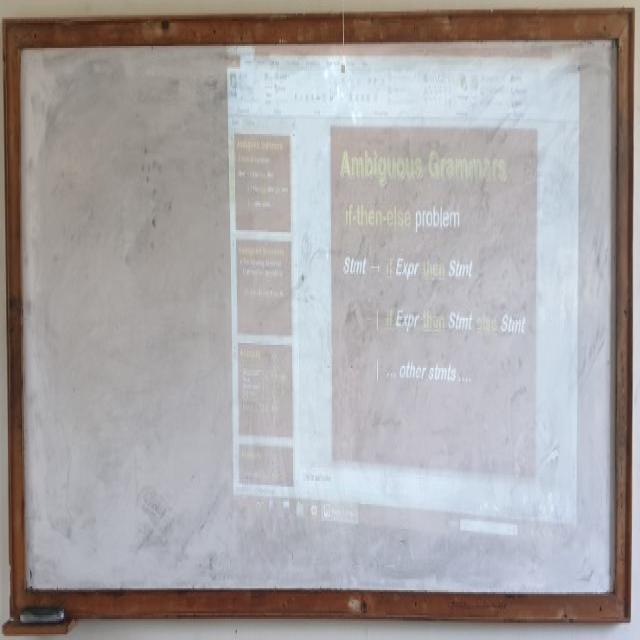Slide: (224, 39, 580, 551)
White-board: (10, 27, 627, 608)
